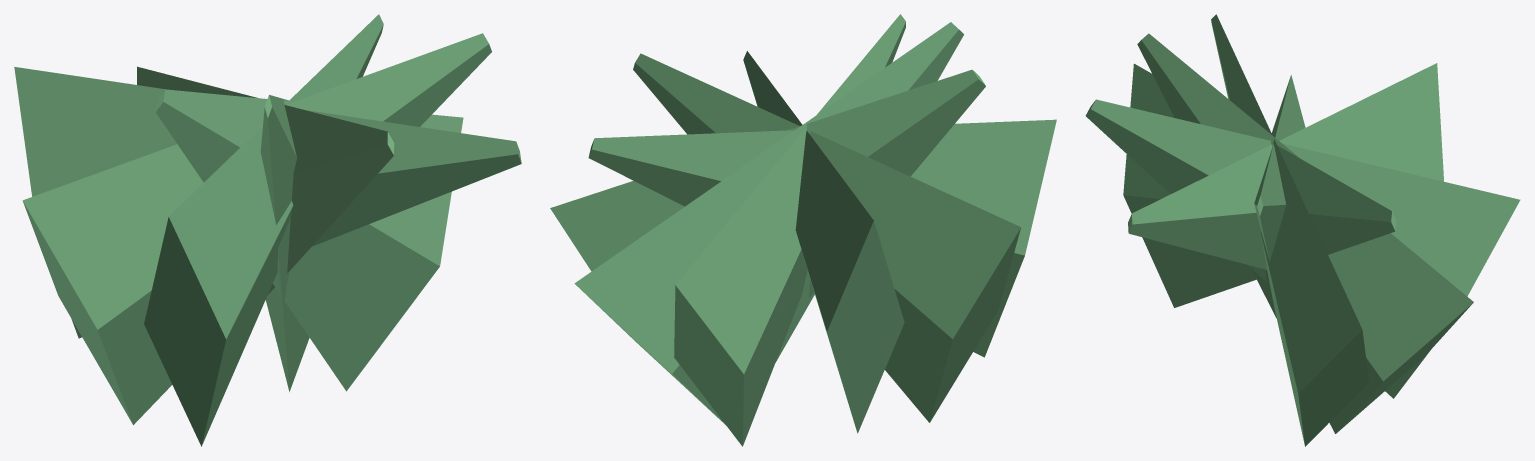
File: 16_Fern.glb
3 views of the same model, side by side, from view 1: azimuth 30°, elevation 25°; view 2: azimuth 150°, elevation 25°; view 3: azimuth 270°, elevation 25° (orthographic). The views are drawn at different scales.
Parts seen in each view (by area): view 1: Fern_Frond4, Fern_Frond6, Fern_Frond5, Fern_Frond2, Fern_Frond1, Fern_Frond3; view 2: Fern_Frond4, Fern_Frond1, Fern_Frond6, Fern_Frond3, Fern_Frond2, Fern_Frond5; view 3: Fern_Frond1, Fern_Frond2, Fern_Frond3, Fern_Frond5, Fern_Frond6, Fern_Frond4.
Boxes of the visible parts, x1,y1,x2,y2 form: Fern_Frond4: [22, 33, 491, 424]; Fern_Frond6: [144, 14, 383, 446]; Fern_Frond5: [155, 89, 463, 391]; Fern_Frond2: [14, 67, 521, 338]; Fern_Frond1: [137, 66, 394, 294]; Fern_Frond3: [260, 94, 309, 391]; Fern_Frond4: [633, 53, 1020, 422]; Fern_Frond1: [674, 14, 905, 446]; Fern_Frond6: [588, 119, 1056, 357]; Fern_Frond3: [574, 22, 963, 424]; Fern_Frond2: [743, 51, 904, 433]; Fern_Frond5: [550, 69, 985, 297]; Fern_Frond1: [1085, 99, 1520, 398]; Fern_Frond2: [1128, 63, 1443, 269]; Fern_Frond3: [1137, 33, 1473, 433]; Fern_Frond5: [1211, 14, 1369, 446]; Fern_Frond6: [1123, 63, 1396, 307]; Fern_Frond4: [1254, 75, 1305, 261].
Bounding box in the file's own units: 0.4465 × 0.3623 × 0.4114.
